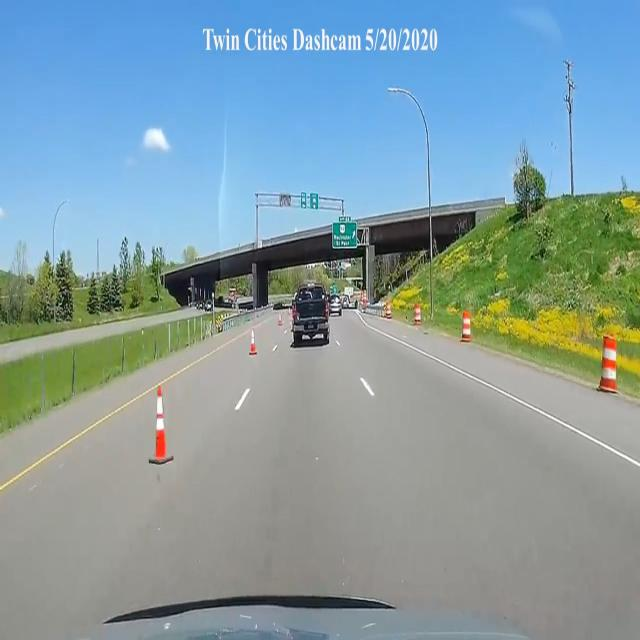cone: (150, 389, 172, 464), (247, 332, 262, 359)
